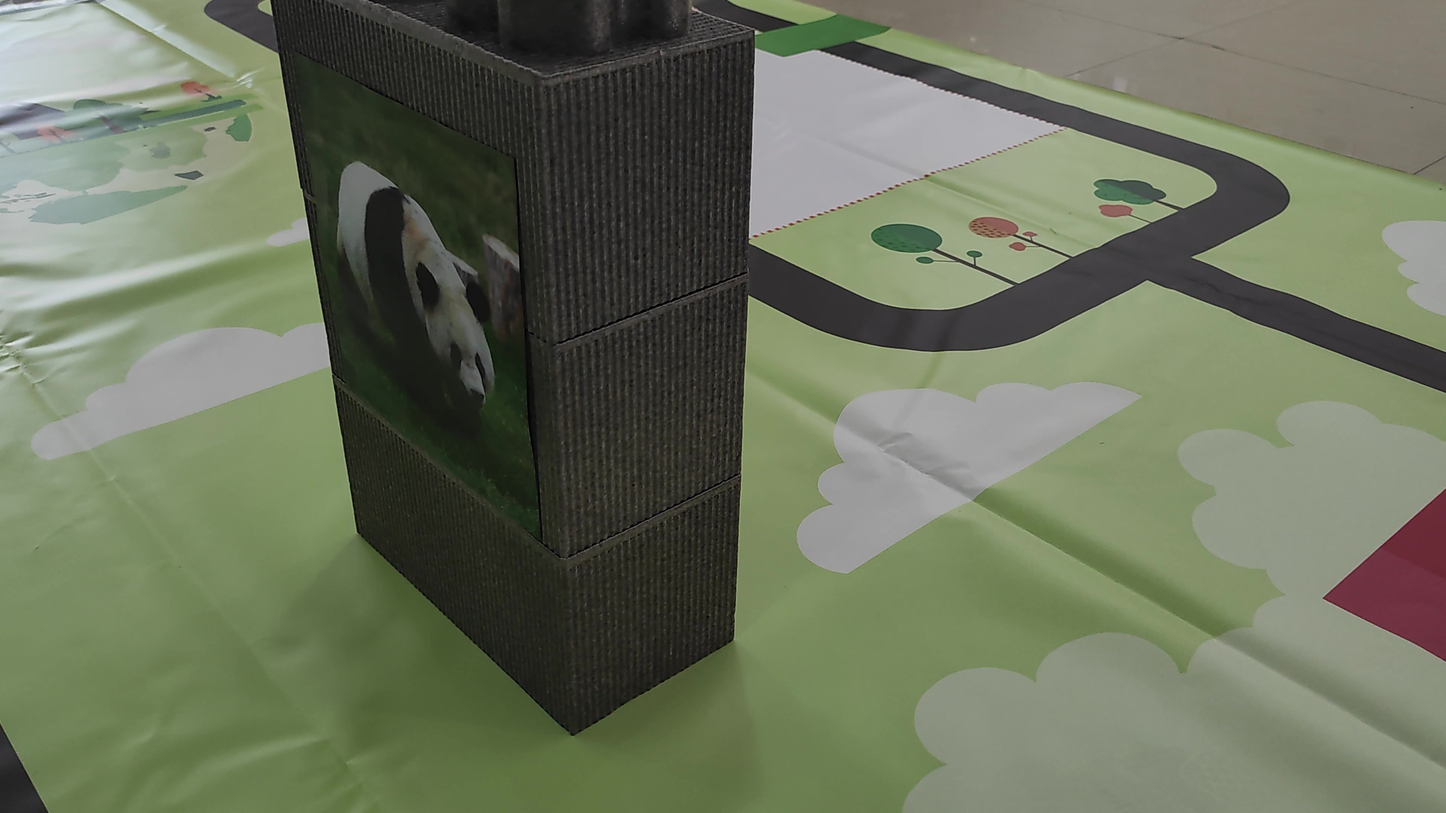panda: (333, 152, 530, 464)
